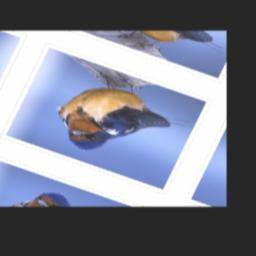Swallow: (41, 60, 201, 180)
